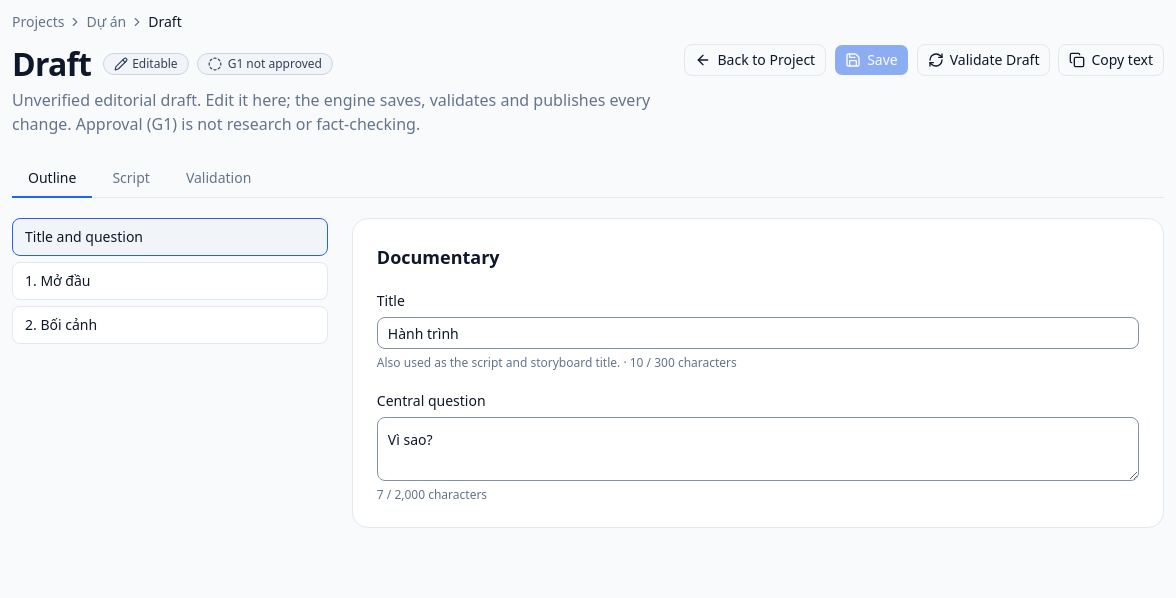
Test: draft editor › edits Vietnamese narration of a selected script section
Check: the field labelled "Title" is shown, box 377,317 -> 1139,349
Click the tab "Script". click: [131, 179]
box: 96,160 -> 166,198
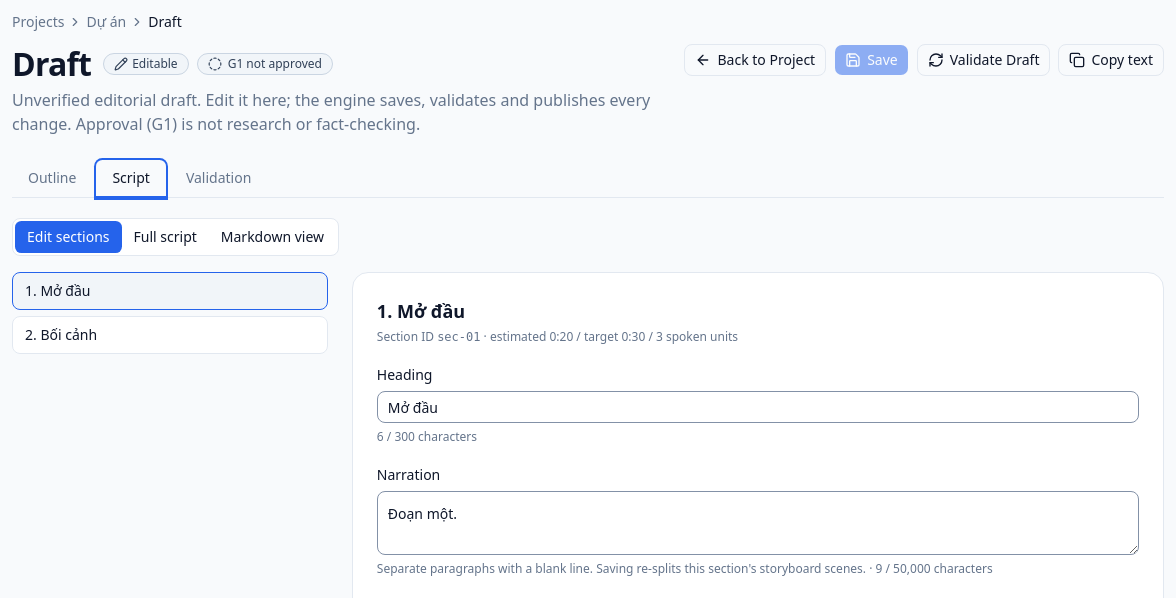
Click the button "2. Bối cảnh". click: [61, 334]
box: 12,316 -> 328,354
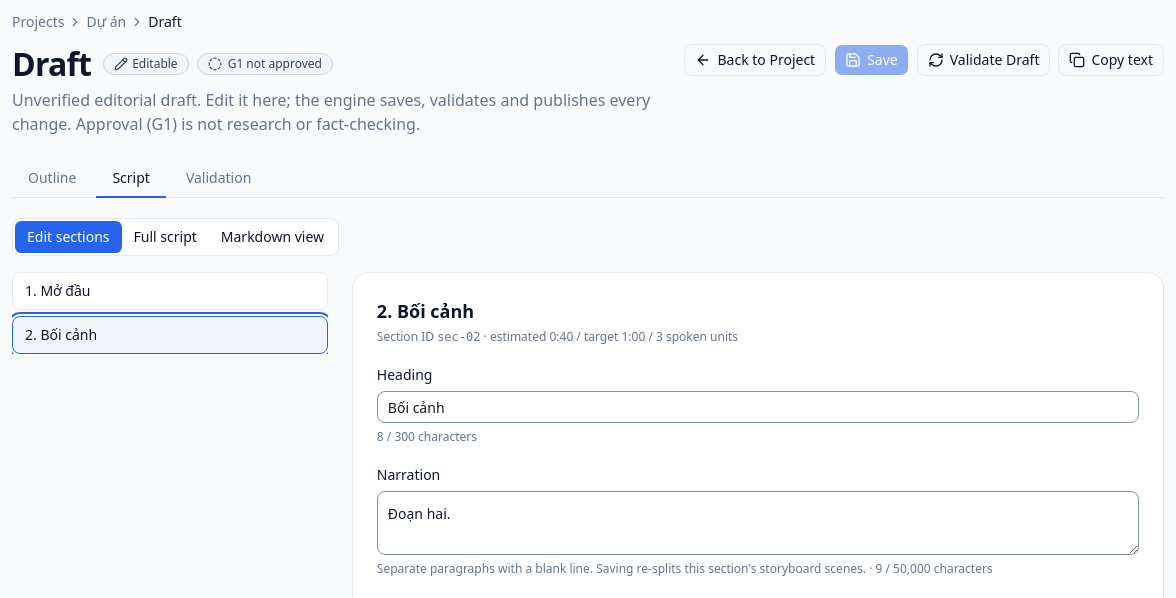
Clear the text box labelled "Narration". click: [758, 523]
box: 377,491 -> 1139,555
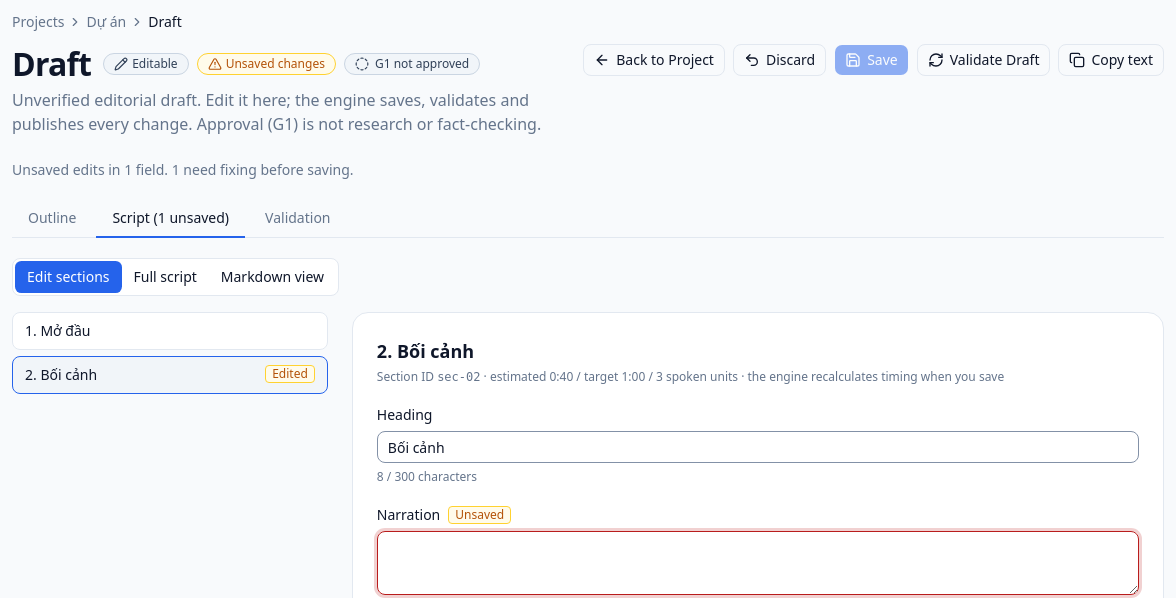
Type "Năm 1911, người thanh niên rời bến Nhà Rồng." into the text box labelled "Narration Unsaved". click: [758, 563]
box: 377,531 -> 1139,595
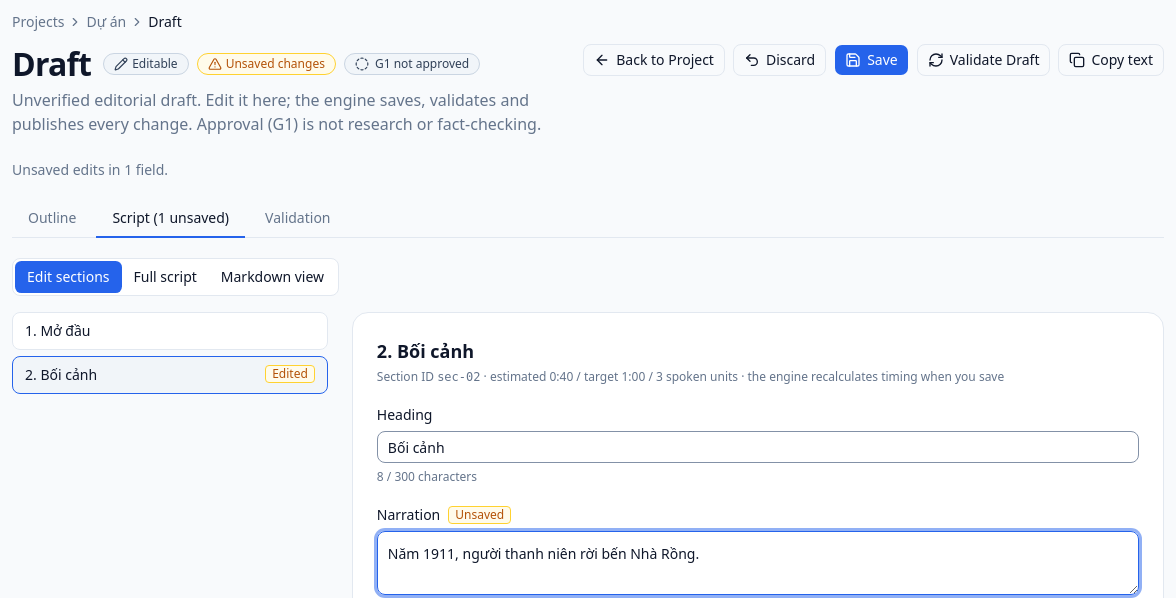
Check: the text "Edited" is shown, box 265,365 -> 315,383
Click the button "Save". click: [872, 60]
box: 834,44 -> 909,76
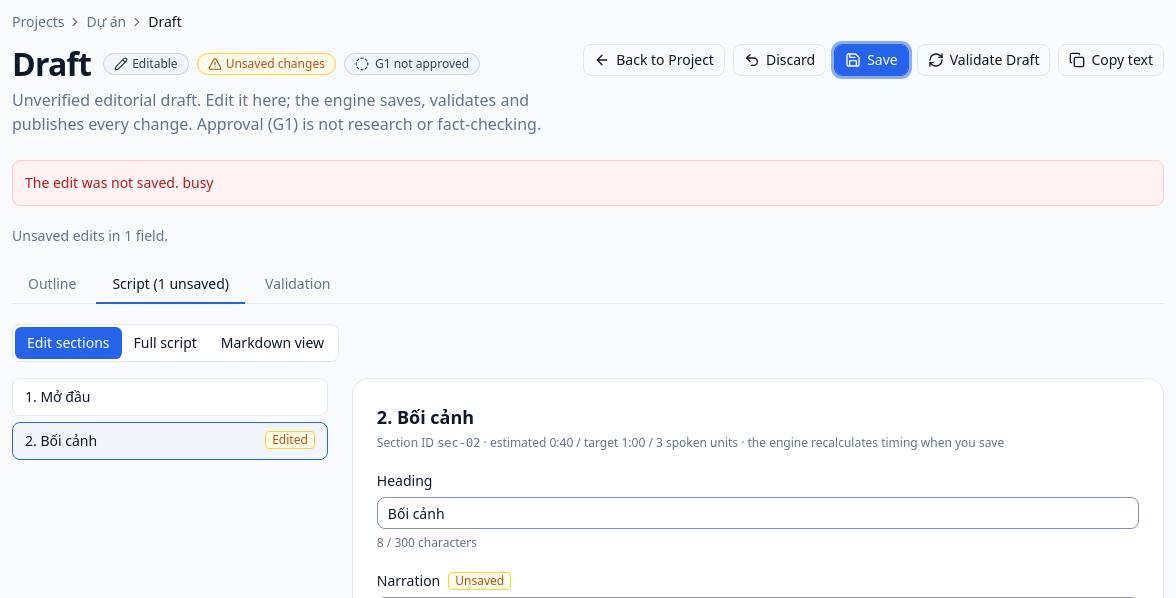
Check: the text "The edit was not saved. busy" is shown, box 25,173 -> 214,192
